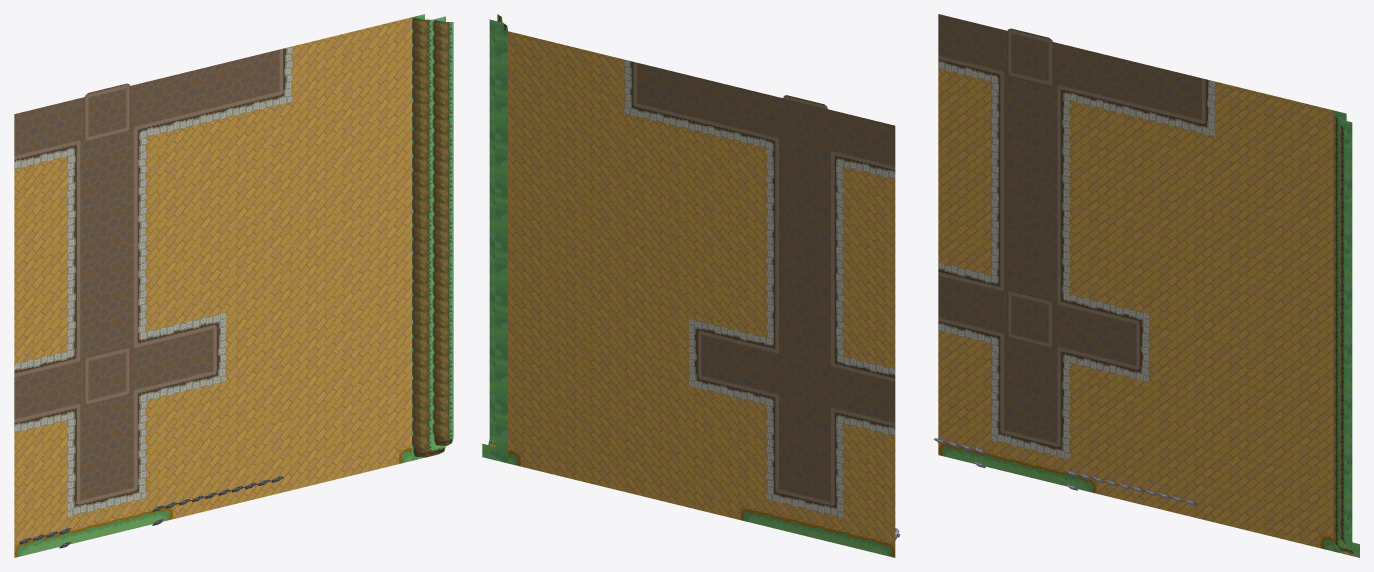
Rendered from HGRT-OW-v1_11_11.obj.
3 views of the same model, side by side, from view 1: azimuth 30°, elevation 25°; view 2: azimuth 150°, elevation 25°; view 3: azimuth 330°, elevation 25° (orthographic). The views are drawn at different scales.
Parts seen in each view (by area): view 1: map; view 2: map; view 3: map.
Part boxes in pixels (box(x1,y1,x2,y2)): map: box(14, 14, 453, 557); map: box(482, 14, 900, 557); map: box(933, 14, 1359, 557).
Bounding box in the file's own units: 32 × 32.38 × 2.
9 materials, 9 textured.
